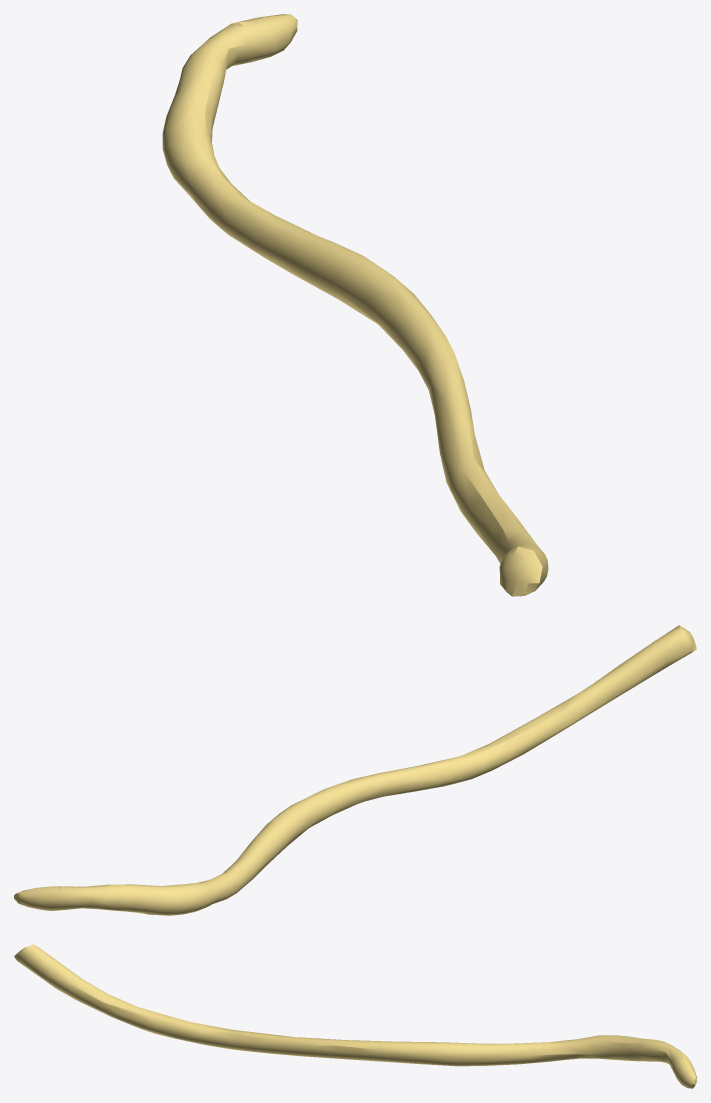
File: fma288200_mm2726m.glb
The picture shows the model from 3 angles, top to bottom: view 1: azimuth 30°, elevation 25°; view 2: azimuth 150°, elevation 25°; view 3: azimuth 270°, elevation 25°; orthographic projection. The views are drawn at different scales.
Parts seen in each view (by area): view 1: FMA288200_MM2726M; view 2: FMA288200_MM2726M; view 3: FMA288200_MM2726M.
Boxes of the visible parts, box(x1,y1,x2,y2) form: FMA288200_MM2726M: box(162, 14, 548, 596); FMA288200_MM2726M: box(14, 625, 696, 915); FMA288200_MM2726M: box(14, 944, 696, 1088).
Bounding box in the file's own units: 0.0266 × 0.00759 × 0.0688.
